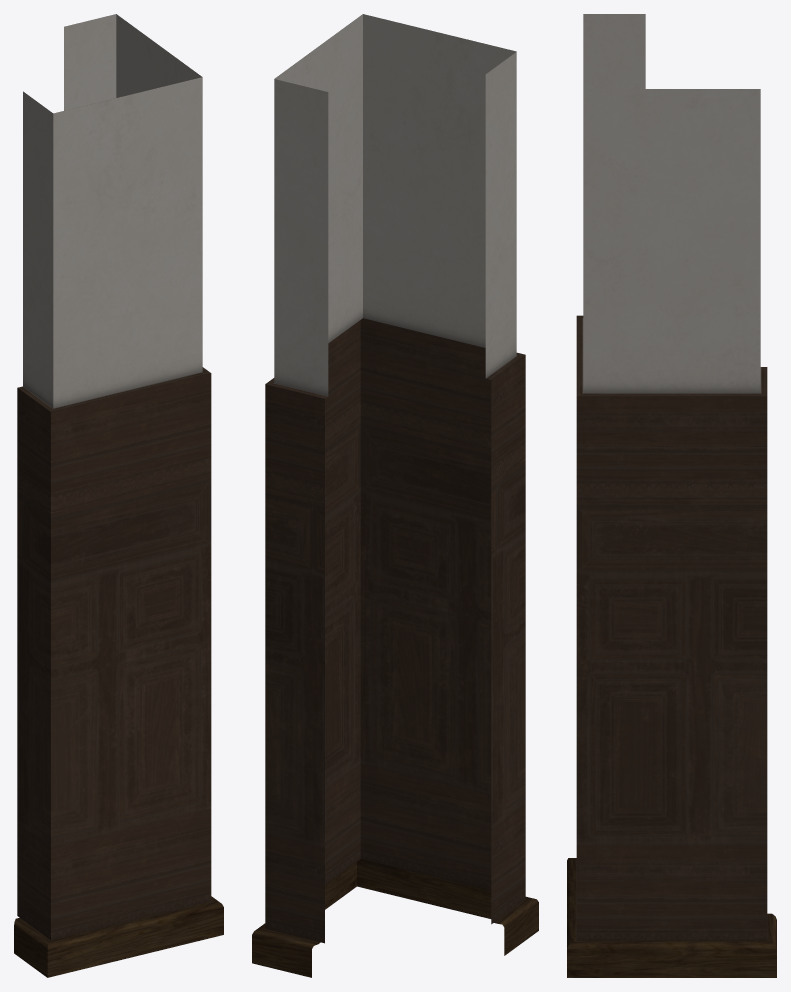
File: Principal Office Corner Pillar.fbx
3 views of the same model, side by side, from view 1: azimuth 30°, elevation 25°; view 2: azimuth 150°, elevation 25°; view 3: azimuth 270°, elevation 25° (orthographic). The views are drawn at different scales.
Parts seen in each view (by area): view 1: Principle_Office_Corner_Pillar; view 2: Principle_Office_Corner_Pillar; view 3: Principle_Office_Corner_Pillar.
Part boxes in pixels (x1,y1,x2,y2): Principle_Office_Corner_Pillar: [14, 14, 223, 977]; Principle_Office_Corner_Pillar: [252, 14, 538, 977]; Principle_Office_Corner_Pillar: [567, 14, 776, 977].
Bounding box in the file's own units: 86.3 × 400 × 86.3.
